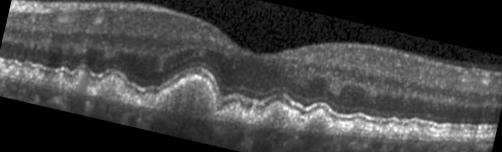retinal_drusen: (156, 78, 212, 118), (262, 104, 292, 129), (95, 78, 122, 101), (304, 112, 328, 134), (215, 103, 242, 122), (349, 122, 370, 136), (72, 75, 89, 92), (52, 74, 70, 87), (327, 122, 343, 136), (141, 94, 155, 106), (245, 108, 256, 123), (407, 129, 419, 142), (292, 113, 304, 124), (386, 127, 398, 138), (371, 125, 380, 138), (130, 96, 139, 105), (7, 67, 16, 75), (17, 69, 25, 78), (30, 71, 37, 81), (122, 94, 128, 102), (255, 117, 261, 124), (88, 89, 93, 94), (0, 66, 3, 72)
